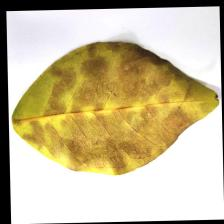black spot: (39, 45, 178, 146)
